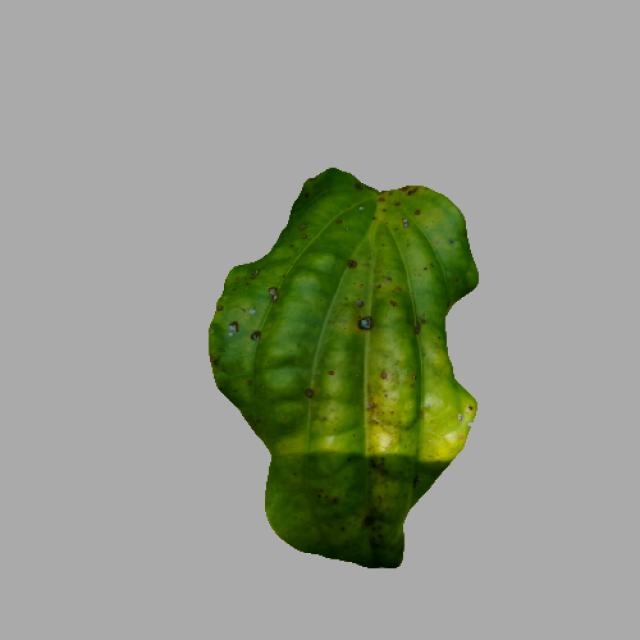yellow-mottle-virus: (191, 164, 484, 567)
